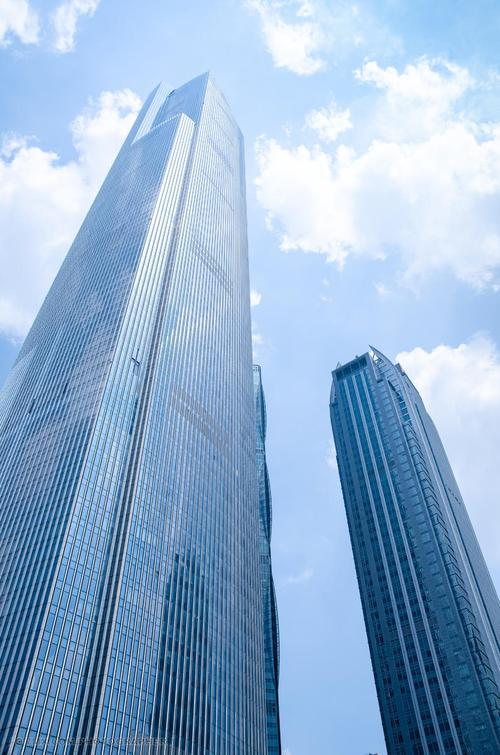buildings: (4, 82, 301, 754), (322, 336, 489, 733)
